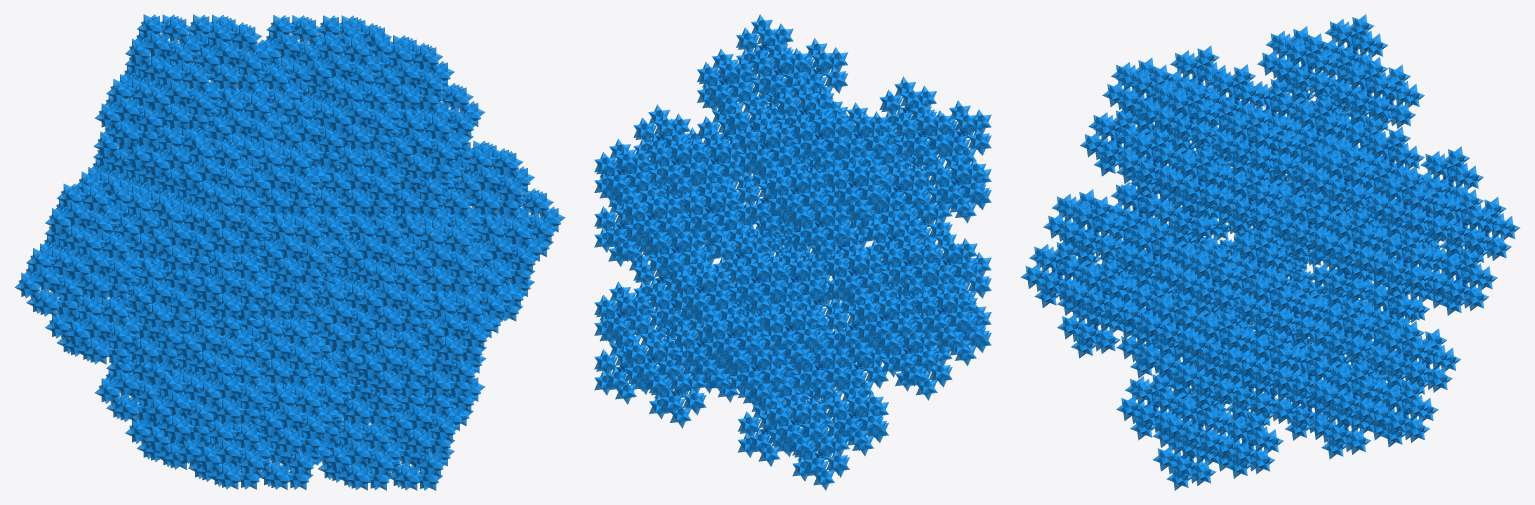
Rendered from fractalsmallstellateddodecahedron3.glb.
The picture shows the model from 3 angles, left to right: view 1: azimuth 30°, elevation 25°; view 2: azimuth 150°, elevation 25°; view 3: azimuth 270°, elevation 25°; orthographic projection. The views are drawn at different scales.
Size of the model in its own units: 12 by 10.49 by 12.
